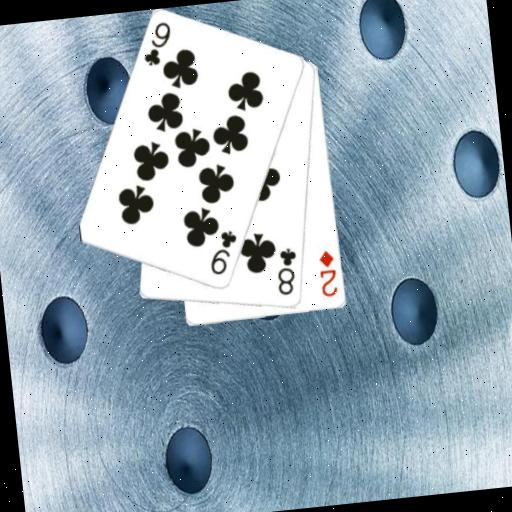2D: (315, 247, 341, 299)
8C: (271, 245, 303, 298)
9C: (204, 227, 243, 279), (137, 19, 176, 70)
